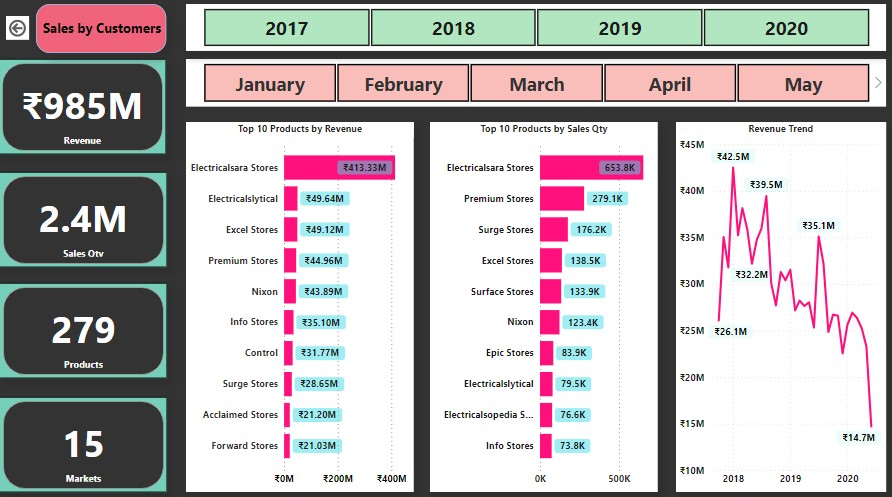

The page's visual inventory and layout, read from the dashboard file:
{"tool":"powerbi","page":{"name":"Sales By Customers","canvas":[1280,720],"ordinal":3},"visuals":[{"type":"cardVisual","fields":{"Data":["BaseMeasures.Revenue"]},"box":[0,88.5,239.7,135.6],"z":0},{"type":"barChart","title":"Top 10 Products by Revenue","fields":{"Y":["BaseMeasures.Revenue"],"Category":["sales customers.custmer_name"]},"box":[268.3,178.4,325.4,528],"z":1000},{"type":"barChart","title":"Top 10 Products by Sales Qty","fields":{"Y":["BaseMeasures.Sales Qty"],"Category":["sales customers.custmer_name"]},"box":[616.5,178.4,325.4,528],"z":2000},{"type":"slicer","fields":{"Values":["sales date.month_name"]},"box":[268.3,88.5,998.9,68.5],"z":3000},{"type":"lineChart","title":"Revenue Trend","fields":{"Category":["sales date.cy_date.Variation.Date Hierarchy.Year","sales date.cy_date.Variation.Date Hierarchy.Quarter","sales date.cy_date.Variation.Date Hierarchy.Month","sales date.cy_date.Variation.Date Hierarchy.Day"],"Y":["BaseMeasures.Revenue"]},"box":[967.5,178.4,299.7,528],"z":4000},{"type":"cardVisual","fields":{"Data":["BaseMeasures.Sales Qty"]},"box":[1.4,249.7,239.7,135.6],"z":5000},{"type":"cardVisual","fields":{"Data":["BaseMeasures.Products"]},"box":[1.4,408.1,239.7,135.6],"z":6000},{"type":"cardVisual","fields":{"Data":["BaseMeasures.Markets"]},"box":[1.4,570.8,239.7,135.6],"z":7000},{"type":"slicer","fields":{"Values":["sales date.year"]},"box":[268.3,10,998.9,67.1],"z":8000},{"type":"textbox","box":[54.2,10,186,70],"z":9000},{"type":"actionButton","box":[11.4,27.1,32.8,34.2],"z":10000}]}

Visuals, with their boxes in screenshot pixels (x1, y1, x2, y2), scaled from the page's 1280x720 canvas onto the 892x497 screenshot:
cardVisual - BaseMeasures.Revenue: locate(0, 61, 167, 155)
"Top 10 Products by Revenue" barChart: locate(187, 123, 414, 488)
"Top 10 Products by Sales Qty" barChart: locate(430, 123, 656, 488)
slicer - sales date.month_name: locate(187, 61, 883, 108)
"Revenue Trend" lineChart: locate(674, 123, 883, 488)
cardVisual - BaseMeasures.Sales Qty: locate(1, 172, 168, 266)
cardVisual - BaseMeasures.Products: locate(1, 282, 168, 375)
cardVisual - BaseMeasures.Markets: locate(1, 394, 168, 488)
slicer - sales date.year: locate(187, 7, 883, 53)
textbox: locate(38, 7, 167, 55)
actionButton: locate(8, 19, 31, 42)
